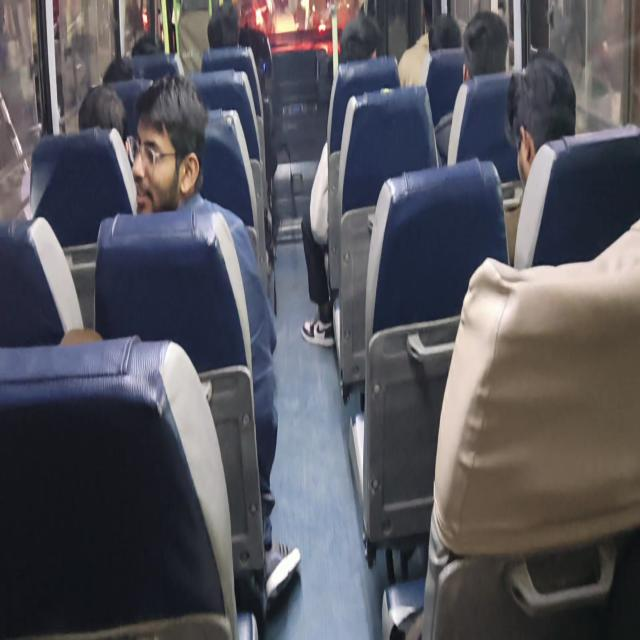person: (126, 72, 302, 608), (300, 15, 384, 348), (502, 48, 577, 265), (434, 10, 509, 166), (462, 10, 509, 80), (78, 83, 128, 140)
